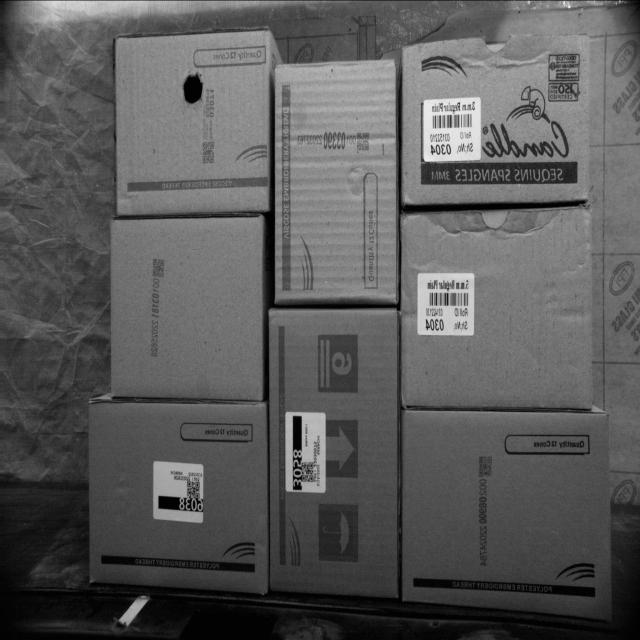cardboxes: (398, 411, 608, 618), (401, 206, 593, 404), (271, 306, 396, 594), (88, 408, 267, 596), (403, 36, 589, 202), (276, 55, 393, 303), (116, 29, 271, 214), (110, 216, 262, 394)
